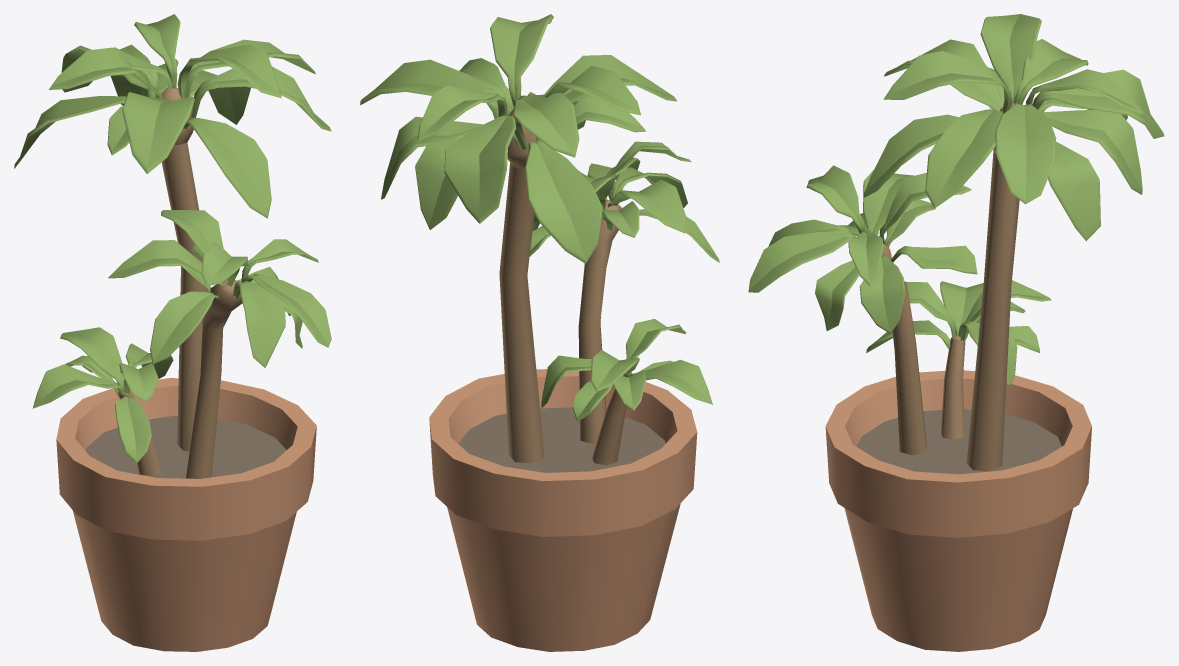
Rendered from SM_Prop_Plant_02.obj.
The picture shows the model from 3 angles, left to right: view 1: azimuth 30°, elevation 25°; view 2: azimuth 150°, elevation 25°; view 3: azimuth 270°, elevation 25°; orthographic projection. The views are drawn at different scales.
Parts seen in each view (by area): view 1: SM_Prop_Plant_02_Mat_SwatchOverlay_PolygonTown_01_Inst; view 2: SM_Prop_Plant_02_Mat_SwatchOverlay_PolygonTown_01_Inst; view 3: SM_Prop_Plant_02_Mat_SwatchOverlay_PolygonTown_01_Inst.
Part boxes in pixels (x1=…): SM_Prop_Plant_02_Mat_SwatchOverlay_PolygonTown_01_Inst: x1=14, y1=14, x2=331, y2=651; SM_Prop_Plant_02_Mat_SwatchOverlay_PolygonTown_01_Inst: x1=360, y1=14, x2=719, y2=651; SM_Prop_Plant_02_Mat_SwatchOverlay_PolygonTown_01_Inst: x1=748, y1=14, x2=1164, y2=651.
Bounding box in the file's own units: 0.8351 × 1.43 × 0.9388.
Materials: 1 (1 with a texture image).
